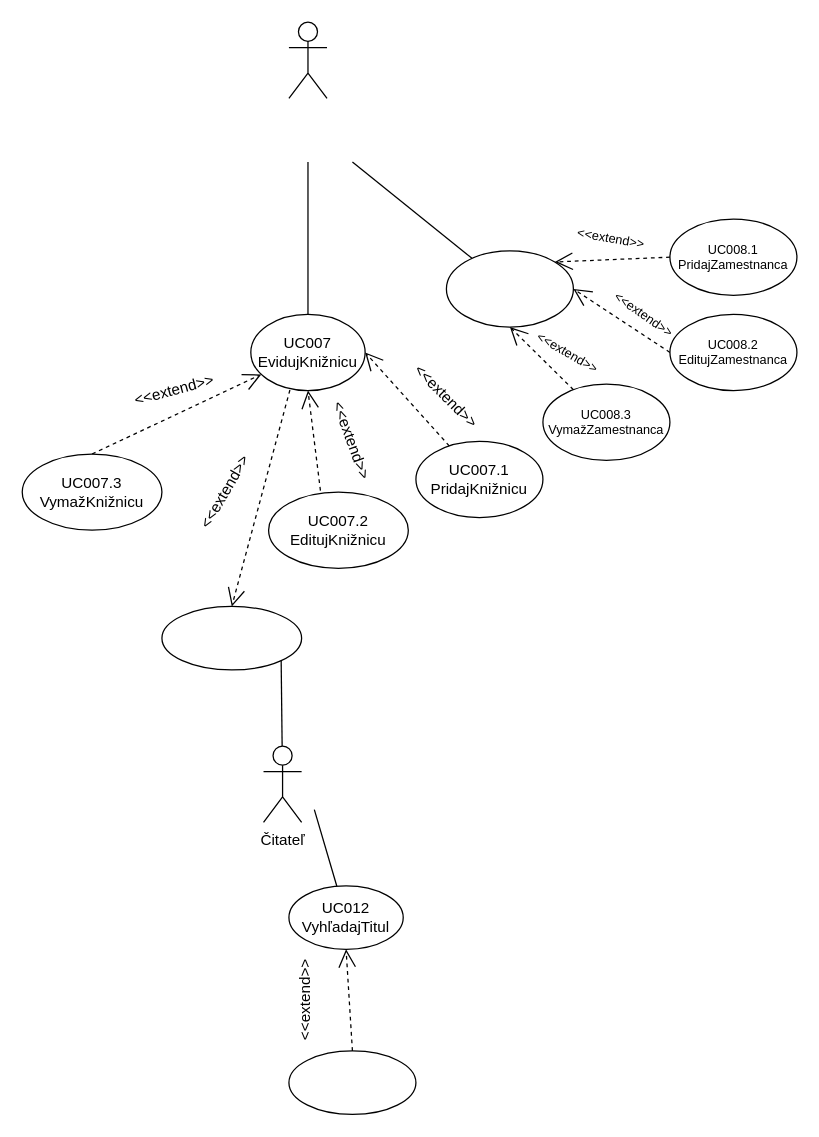
Some shapes in this 819 by 1137 pixel diagram are drawn without their labels. The shapes that lost their labels are listed below. From the top down, each one's centre as x and y in pixels, then its label:
(307,59): Systémový administrátor
(509,288): UC008 EvidujZamestnanca
(231,637): UC011 VyhľadajKnižnicu
(352,1082): UC002 EvidujTitul
